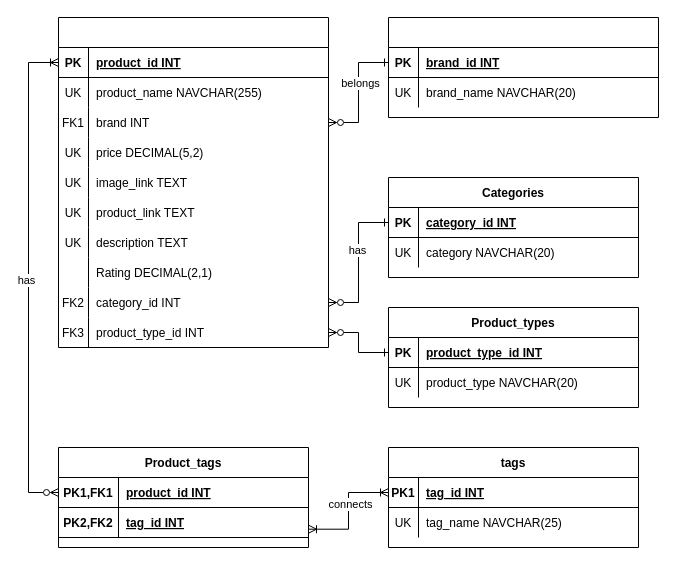
Some shapes in this 676 by 565 pixel diagram are drawn without their labels. The shapes that lost their labels are listed below. From the top down, each one's box as (x1, y1, x2, y2) in pixels, then its label:
(388, 16, 658, 118): Brands
(58, 16, 328, 348): Products
